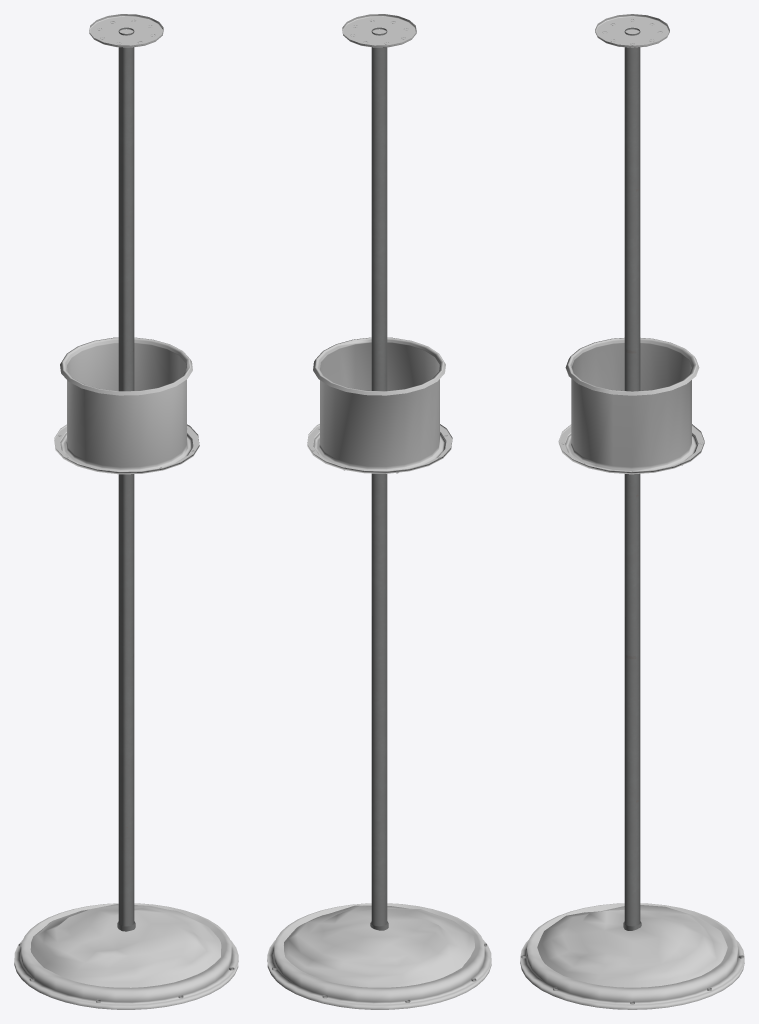
Rendered from Column.fbx.
The picture shows the model from 3 angles, left to right: view 1: azimuth 30°, elevation 25°; view 2: azimuth 150°, elevation 25°; view 3: azimuth 270°, elevation 25°; orthographic projection.
Visible parts, largest first — view 1: Column_LOD0; view 2: Column_LOD0; view 3: Column_LOD0.
Boxes of the visible parts, box(x1,y1,x2,y2) form: Column_LOD0: box(14, 14, 238, 1009); Column_LOD0: box(267, 14, 491, 1009); Column_LOD0: box(520, 14, 744, 1009).
Size of what is drawn, in the model's own units: 2.19 by 10.04 by 2.19.
